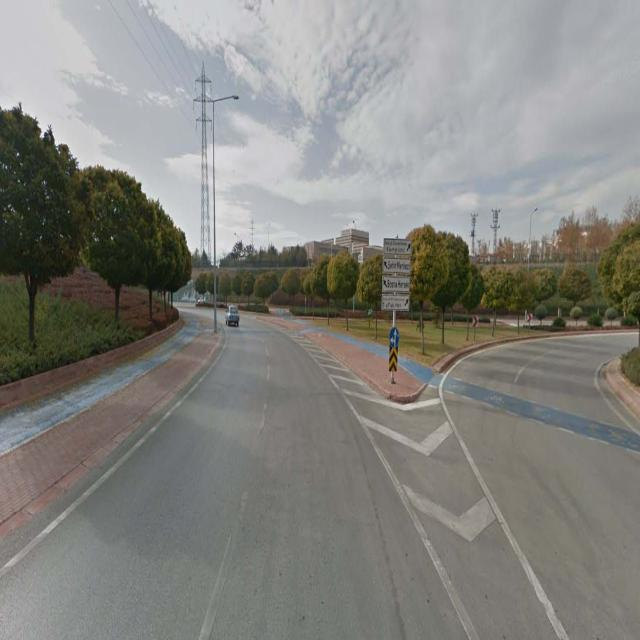ilerisol: (389, 328, 398, 348)
